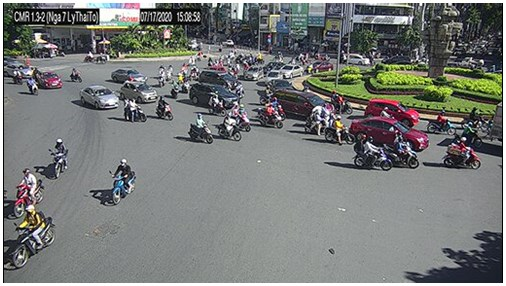xe_hoi: (348, 118, 429, 153), (364, 98, 419, 127), (273, 89, 327, 118), (189, 83, 238, 110), (197, 69, 244, 94), (79, 84, 119, 109), (120, 82, 159, 102), (111, 68, 148, 83), (39, 71, 62, 89), (380, 56, 413, 68), (279, 64, 303, 79), (308, 60, 334, 73), (343, 52, 369, 65), (266, 69, 281, 84)
xe_may: (10, 204, 57, 268), (13, 168, 46, 217), (353, 135, 392, 171), (442, 135, 482, 170), (109, 158, 138, 205), (385, 138, 418, 169), (305, 108, 340, 137), (325, 116, 355, 144), (188, 113, 214, 144), (426, 111, 457, 136), (50, 138, 68, 178), (217, 113, 241, 142), (327, 90, 353, 116), (259, 103, 283, 130), (123, 97, 147, 122), (229, 104, 251, 131), (208, 93, 228, 117), (156, 95, 173, 121), (271, 98, 285, 122), (258, 85, 273, 103), (26, 77, 39, 96), (177, 62, 189, 79), (94, 52, 110, 64), (170, 79, 179, 99), (13, 68, 23, 85), (156, 70, 166, 87), (234, 81, 244, 98), (69, 68, 81, 82), (83, 51, 95, 63), (182, 75, 189, 95), (272, 52, 286, 62), (305, 63, 318, 73), (190, 64, 198, 80), (254, 52, 264, 64), (158, 62, 165, 77), (224, 54, 232, 67), (205, 56, 213, 66), (168, 62, 173, 77)
